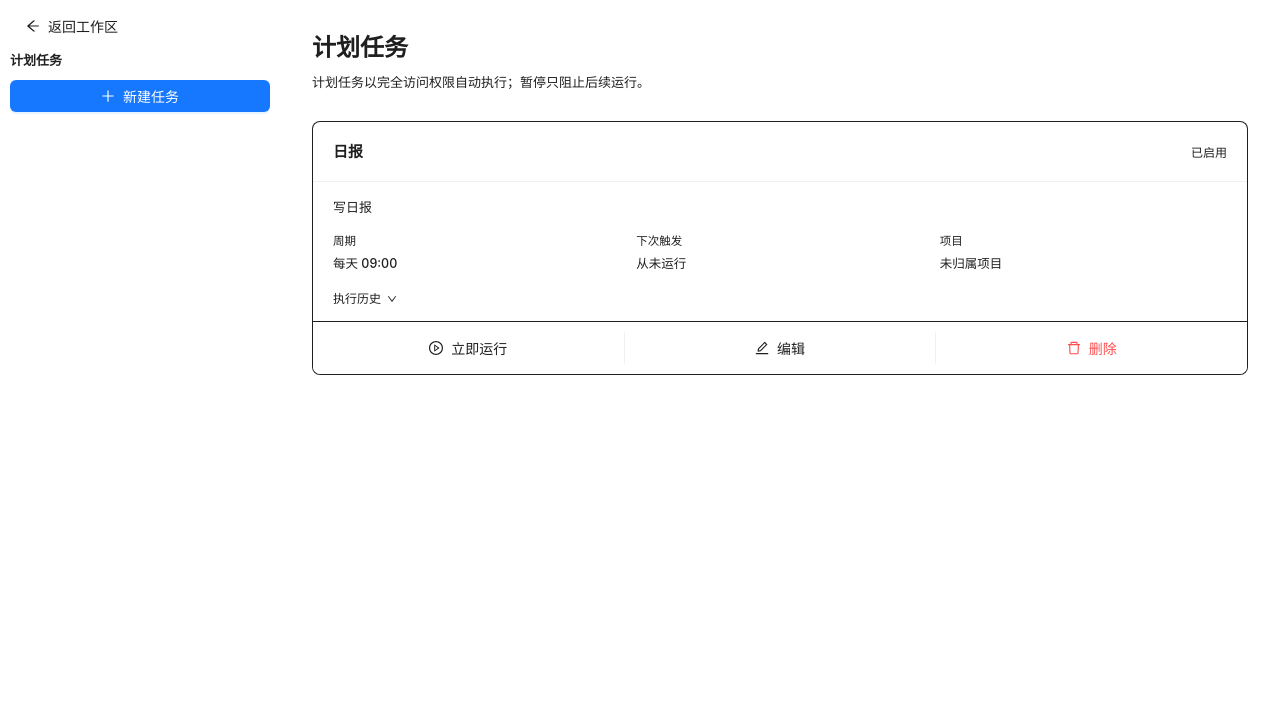
任务页：执行历史 › runs 最多渲染 20 条（防旧数据异常膨胀）
Click the button with class "task-row-main": (353, 207) [333, 199, 1002, 306]
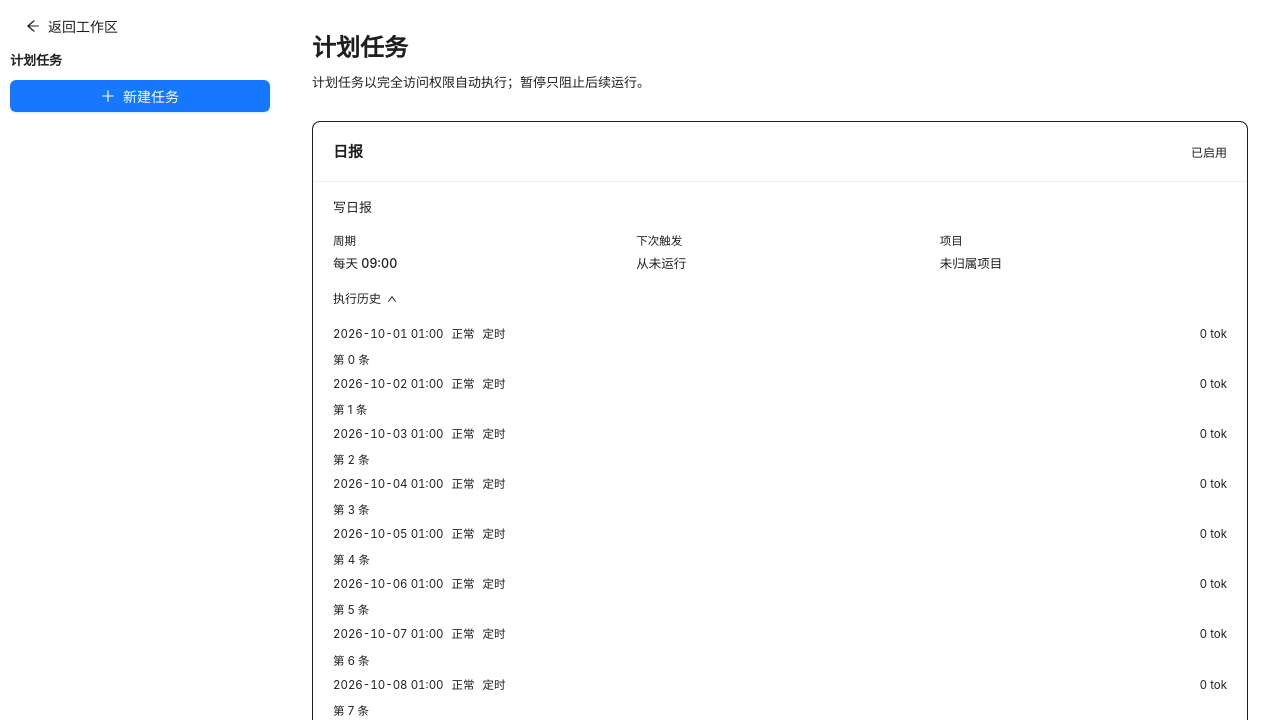
Expected: the text "第 0 条" is shown, [333, 353, 370, 367]
